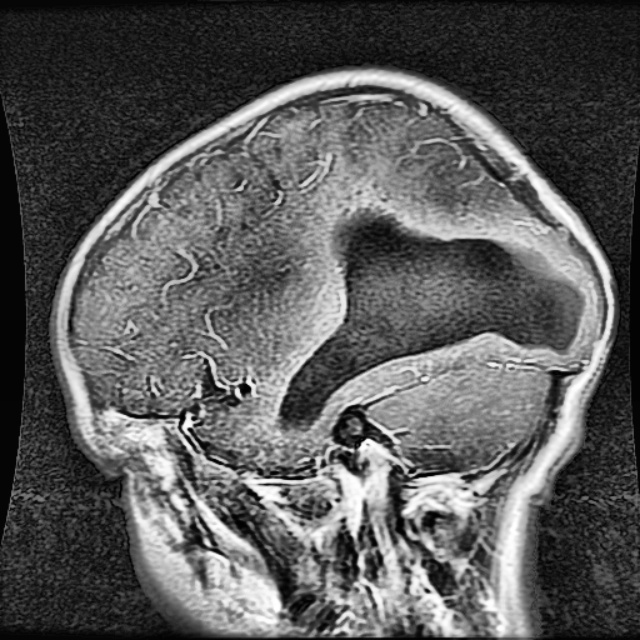Meningioma: (277, 207, 583, 427)
